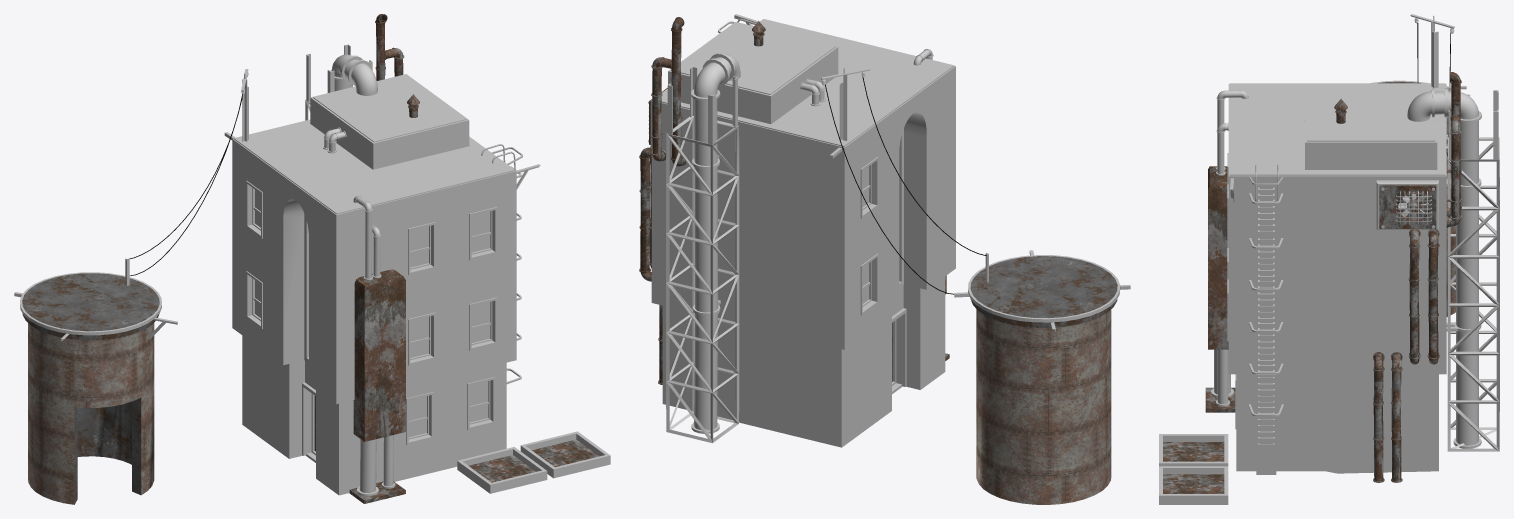
The model's file is 3_StoneBlockProduction_StoneCuttingFactory.fbx.
3 views of the same model, side by side, from view 1: azimuth 30°, elevation 25°; view 2: azimuth 150°, elevation 25°; view 3: azimuth 270°, elevation 25° (orthographic). The views are drawn at different scales.
Parts seen in each view (by area): view 1: StoneCuttingFactory, Storage_1, Storage_2; view 2: StoneCuttingFactory; view 3: StoneCuttingFactory, Storage_2, Storage_1.
Part boxes in pixels (bbox=[...]): StoneCuttingFactory: bbox=[14, 14, 540, 504]; Storage_1: bbox=[457, 447, 547, 493]; Storage_2: bbox=[520, 431, 610, 478]; StoneCuttingFactory: bbox=[639, 14, 1130, 504]; StoneCuttingFactory: bbox=[1205, 14, 1499, 482]; Storage_2: bbox=[1159, 466, 1228, 504]; Storage_1: bbox=[1159, 434, 1228, 466].
Bounding box in the file's own units: 976 × 589 × 746.
